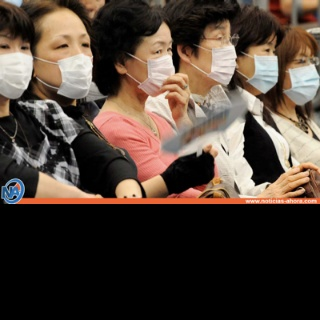with_mask: (38, 31, 94, 99), (129, 37, 176, 98), (193, 24, 238, 84), (0, 32, 34, 100), (240, 40, 280, 94), (285, 52, 320, 105)
